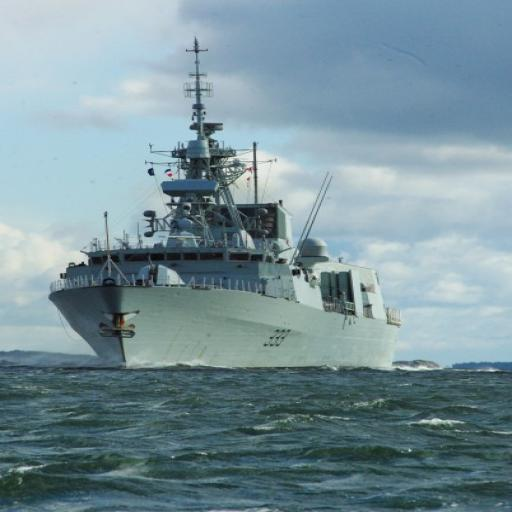Fragata: (46, 27, 405, 378)
